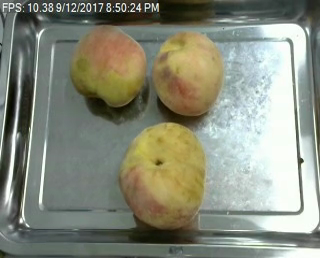Peach: (118, 121, 207, 230), (69, 24, 146, 107), (153, 30, 224, 114)
